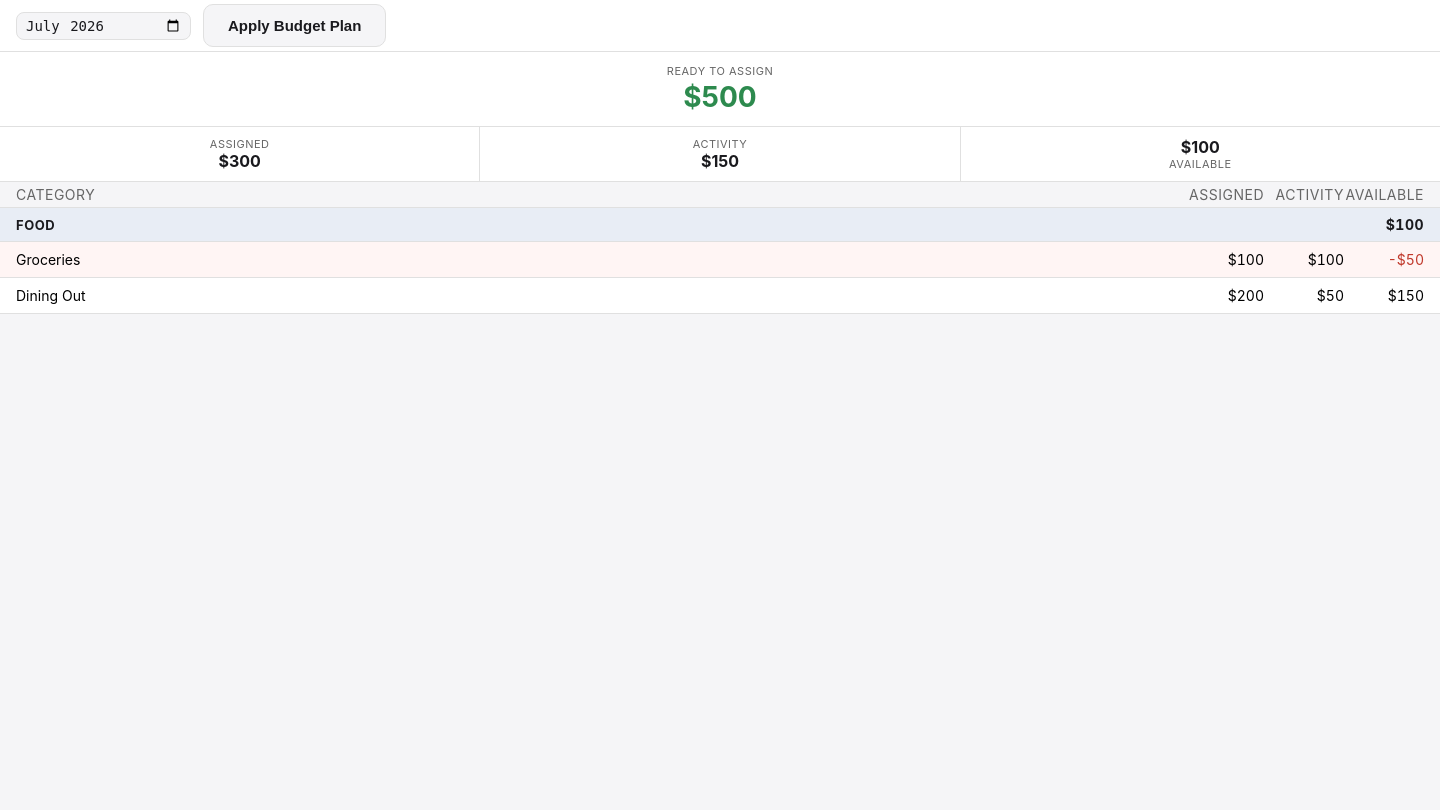
Test: Plan screen — move money › Cover shortage button appears when destination is overspent
The image size is (1440, 810).
Click the button "Groceries $100 $100 -$50" at point(48, 260), box left=0, top=242, right=1439, bottom=278
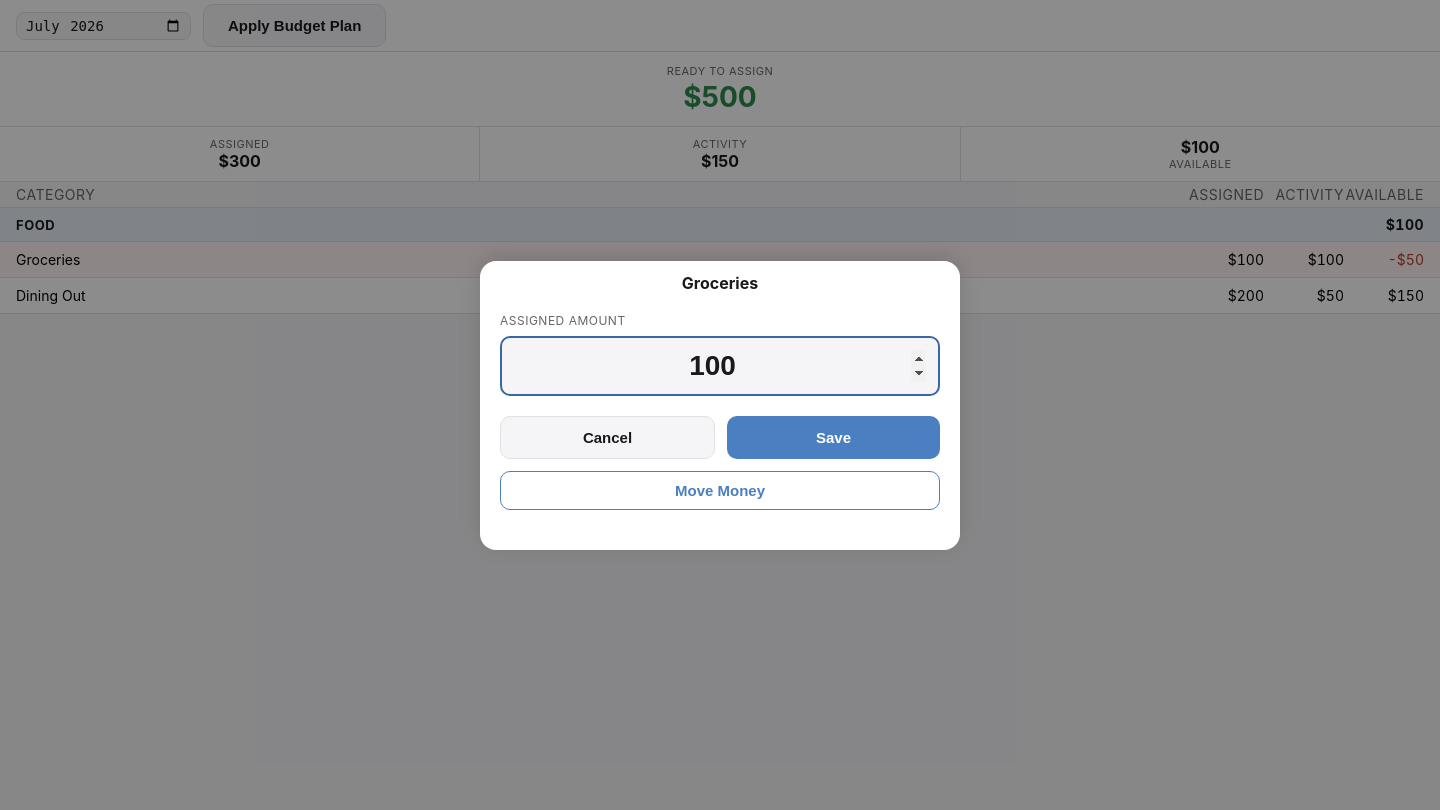
Click the button "Move Money" at point(720, 490), box left=500, top=470, right=940, bottom=510
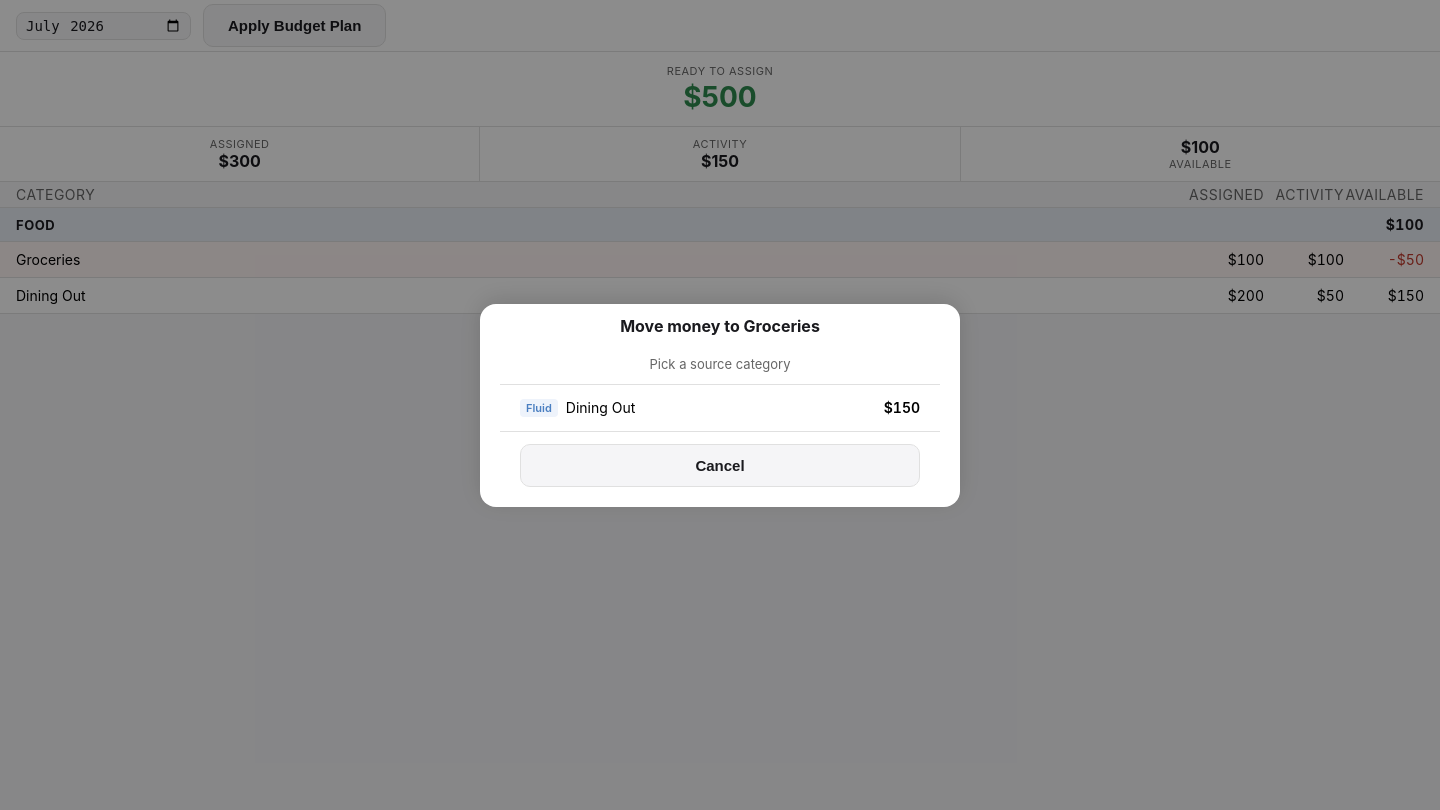
Click the button "Fluid Dining Out $150" at point(539, 408), box left=500, top=384, right=940, bottom=432
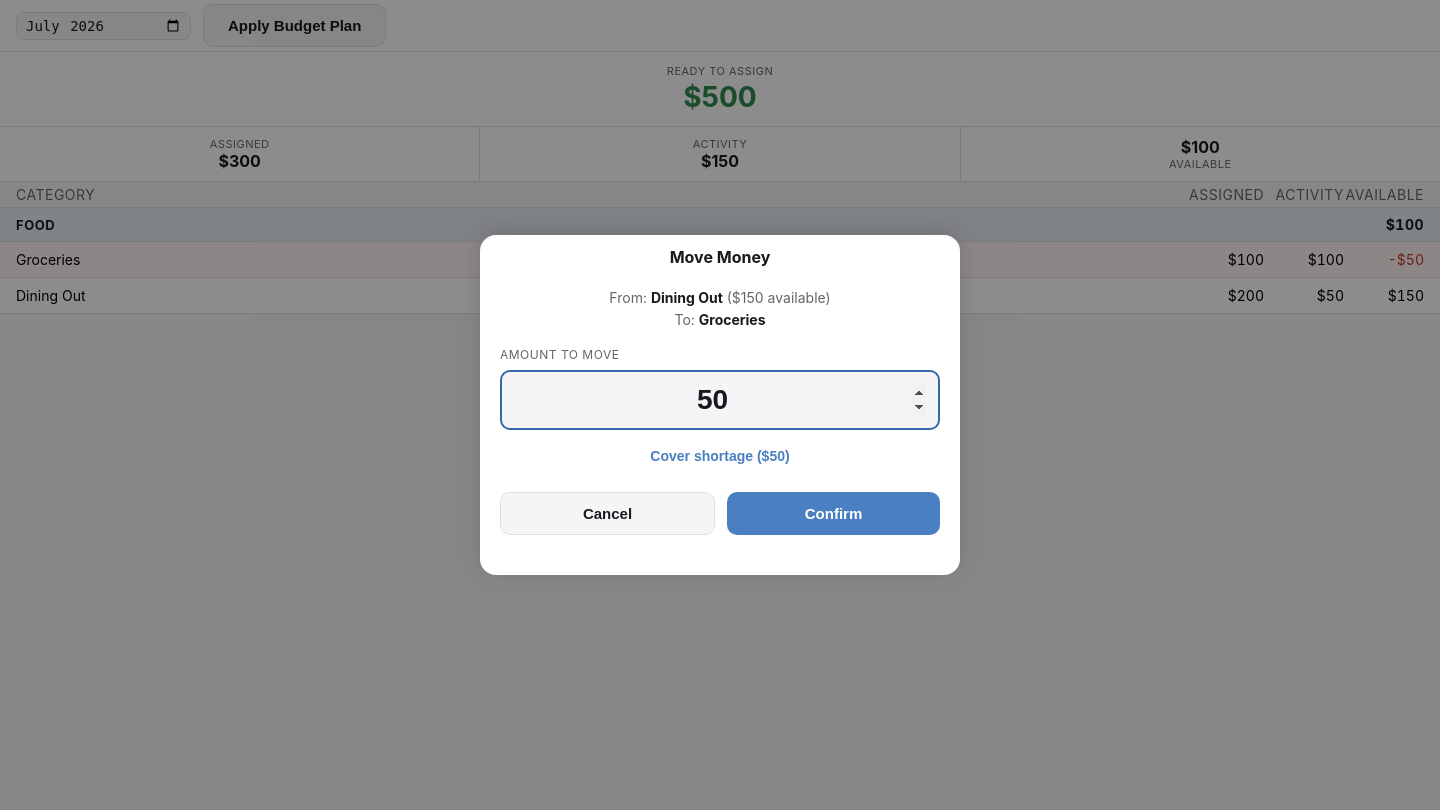
Expected: the button "Cover shortage ($50)" is shown, left=500, top=440, right=940, bottom=472
